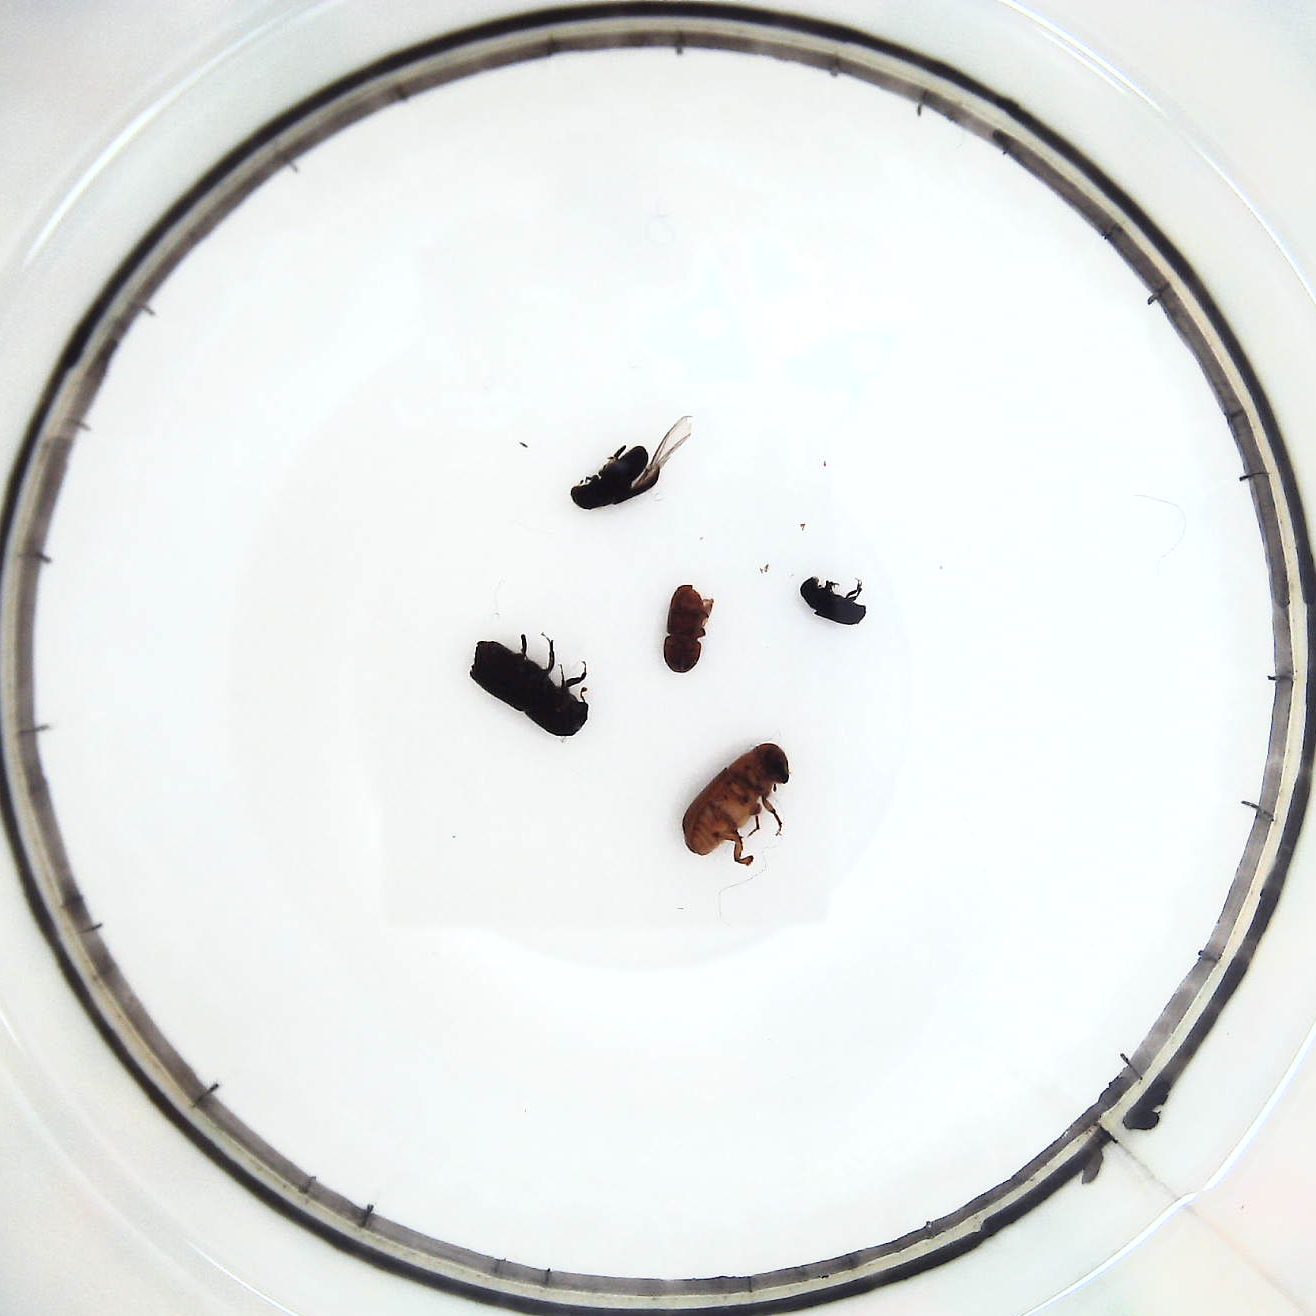Boerner: (465, 634, 594, 739)
Leconte: (678, 736, 801, 865)
armandi: (565, 421, 677, 515)
coleoptera: (797, 572, 873, 629)
linnaeus: (660, 578, 721, 678)
